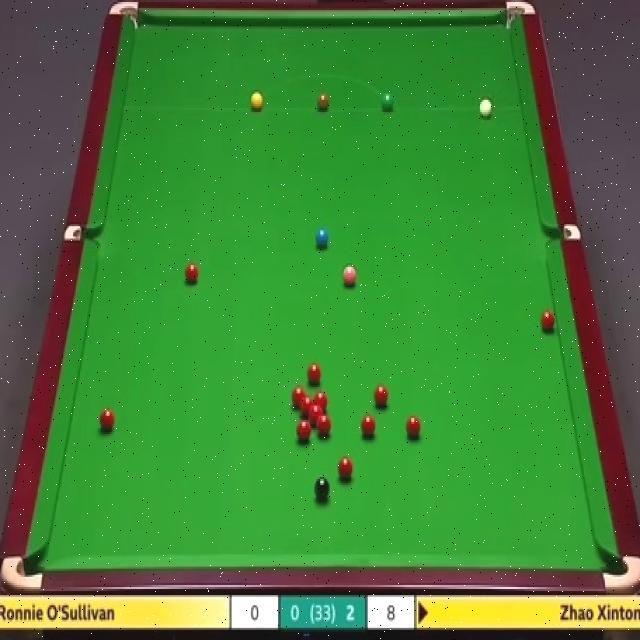black-ball: (313, 476, 329, 502)
blue-ball: (315, 226, 329, 252)
brown-ball: (316, 92, 330, 111)
green-ball: (381, 92, 395, 111)
pink-ball: (341, 264, 357, 288)
red-ball: (403, 414, 423, 442), (372, 381, 389, 411), (360, 413, 377, 443), (338, 454, 354, 483), (99, 407, 115, 434), (312, 390, 329, 414), (541, 309, 555, 336), (296, 420, 311, 444), (307, 363, 322, 387), (299, 393, 313, 418), (291, 383, 305, 407), (186, 261, 199, 286), (317, 414, 331, 437), (310, 406, 324, 426)
white-ball: (478, 96, 493, 121)
yellow-ball: (250, 92, 264, 111)
